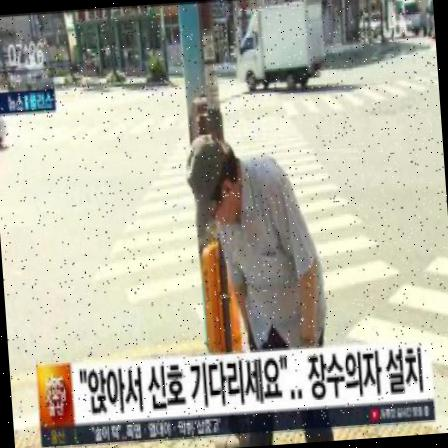silver: (183, 127, 329, 354)
